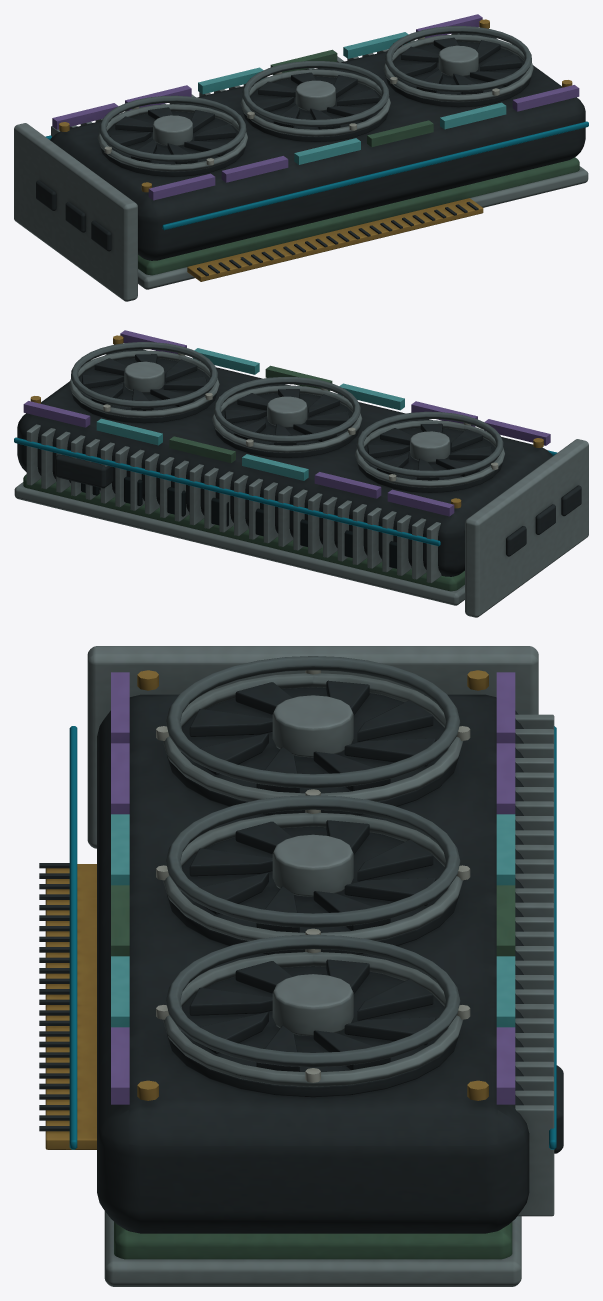
The model's file is graphics_card.obj.
3 renders of one model, top to bottom at view 1: azimuth 30°, elevation 25°; view 2: azimuth 150°, elevation 25°; view 3: azimuth 270°, elevation 25°, orthographic. The views are drawn at different scales.
Visible parts, largest first — view 1: graphics_card_static_0, Continuous_GPU_light_guide; view 2: graphics_card_static_0, Continuous_GPU_light_guide.001; view 3: graphics_card_static_0, Continuous_GPU_light_guide, Continuous_GPU_light_guide.001.
Part boxes in pixels (x1=…): graphics_card_static_0: x1=14, y1=14, x2=588, y2=301; Continuous_GPU_light_guide: x1=162, y1=121, x2=588, y2=230; graphics_card_static_0: x1=14, y1=330, x2=588, y2=617; Continuous_GPU_light_guide.001: x1=14, y1=437, x2=440, y2=546; graphics_card_static_0: x1=39, y1=646, x2=563, y2=1286; Continuous_GPU_light_guide: x1=69, y1=726, x2=77, y2=1149; Continuous_GPU_light_guide.001: x1=549, y1=726, x2=556, y2=1149.
Bounding box in the file's own units: 0.354 × 0.081 × 0.1685.
Materials: 2 (1 with a texture image).
